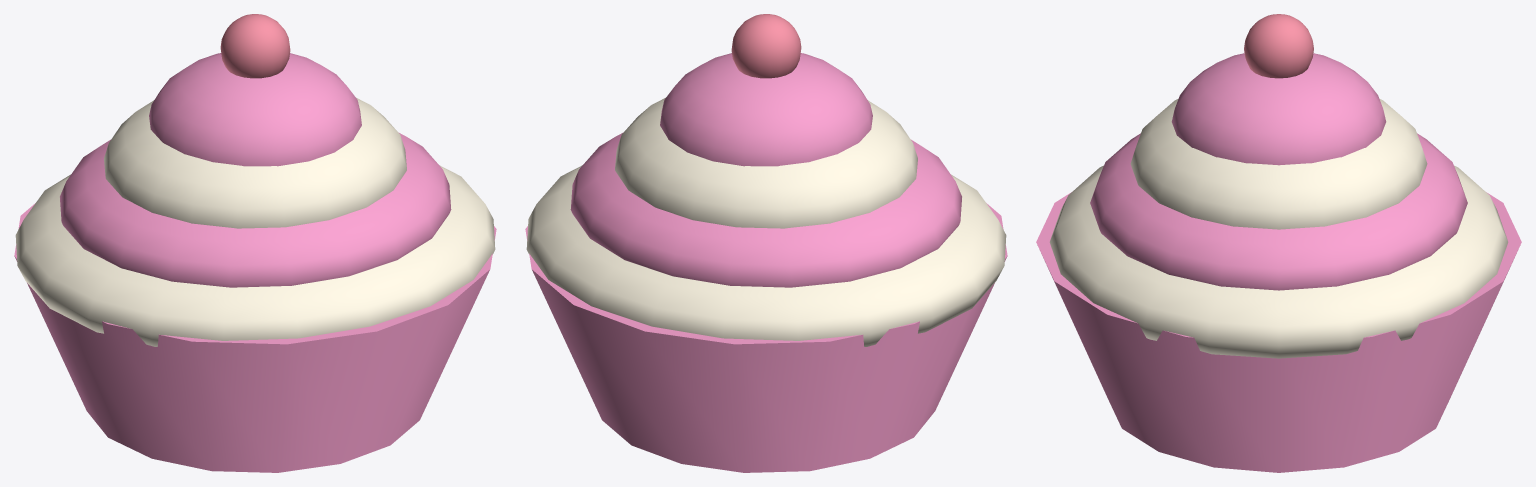
The model's file is st_candy_cupcake.glb.
3 views of the same model, side by side, from view 1: azimuth 30°, elevation 25°; view 2: azimuth 150°, elevation 25°; view 3: azimuth 270°, elevation 25° (orthographic).
Visible parts, largest first — view 1: Cupcake_Island; view 2: Cupcake_Island; view 3: Cupcake_Island.
Boxes of the visible parts, x1=… form: Cupcake_Island: x1=14, y1=14, x2=496, y2=472; Cupcake_Island: x1=525, y1=14, x2=1007, y2=472; Cupcake_Island: x1=1036, y1=14, x2=1521, y2=472.
Bounding box in the file's own units: 1.82 × 1.57 × 1.8.
